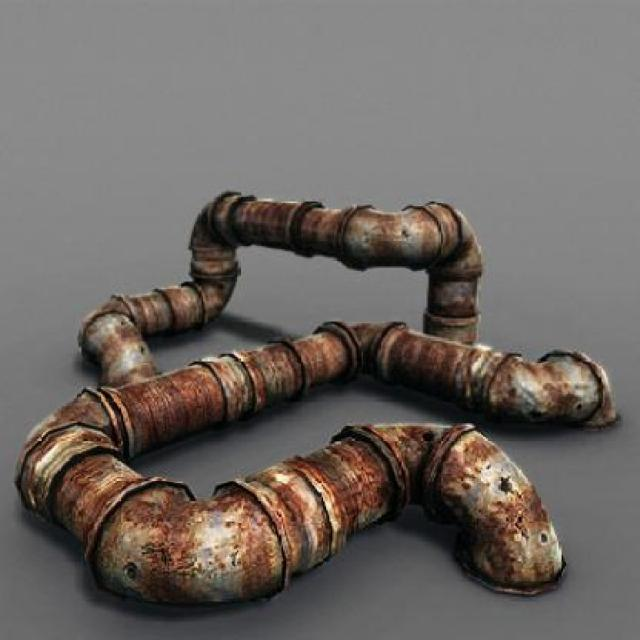corrosion: (24, 188, 619, 615)
